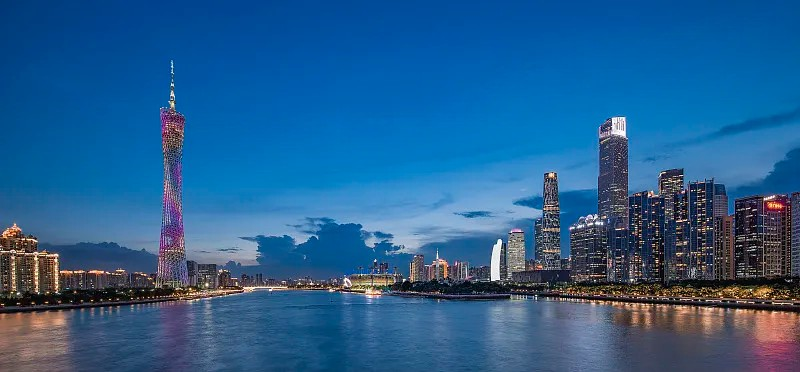Canton: (151, 55, 193, 288)
